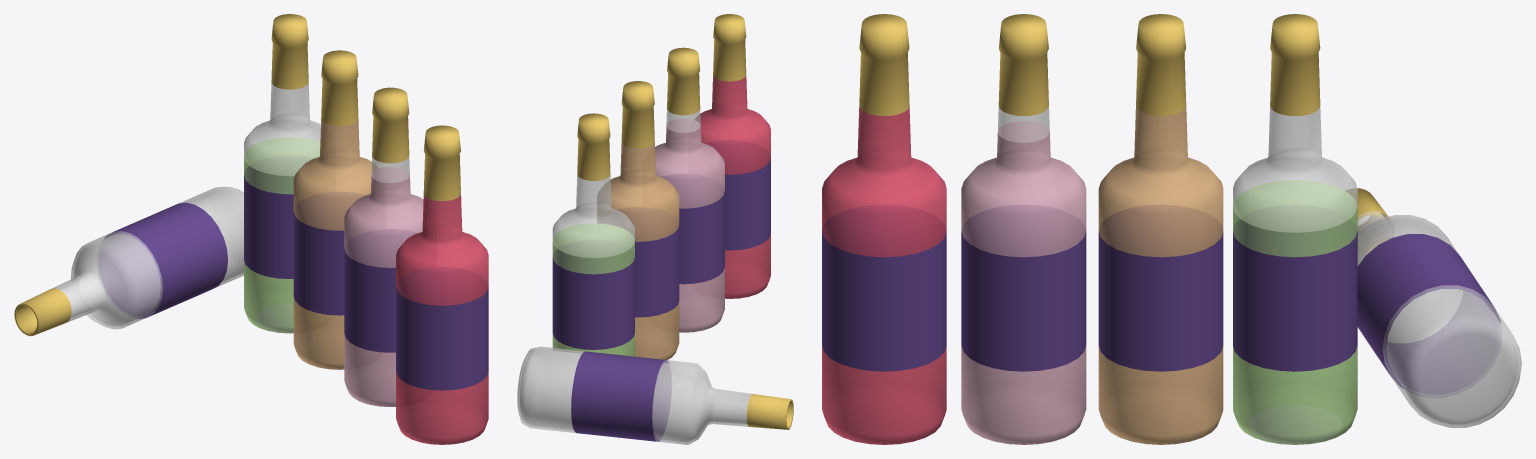
Rendered from latte_syrup.fbx.
The picture shows the model from 3 angles, left to right: view 1: azimuth 30°, elevation 25°; view 2: azimuth 150°, elevation 25°; view 3: azimuth 270°, elevation 25°; orthographic projection. The views are drawn at different scales.
Visible parts, largest first — view 1: Cube.002, Cube.004, Cube.001, Cube, Cube.003; view 2: Cube.004, Cube.003, Cube, Cube.002, Cube.001; view 3: Cube.001, Cube, Cube.003, Cube.002, Cube.004.
Boxes of the visible parts, x1,y1,x2,y2 form: Cube.002: (396, 125, 488, 444); Cube.004: (14, 186, 243, 336); Cube.001: (344, 87, 423, 406); Cube: (293, 50, 378, 369); Cube.003: (244, 14, 320, 333); Cube.004: (517, 346, 793, 444); Cube.003: (552, 113, 634, 356); Cube: (597, 81, 679, 359); Cube.002: (695, 14, 770, 298); Cube.001: (655, 47, 724, 332); Cube.001: (961, 14, 1086, 444); Cube: (1098, 14, 1223, 444); Cube.003: (1233, 14, 1357, 444); Cube.002: (822, 14, 946, 444); Cube.004: (1346, 188, 1521, 427).
Size of the model in its own units: 563 by 561 by 886.
